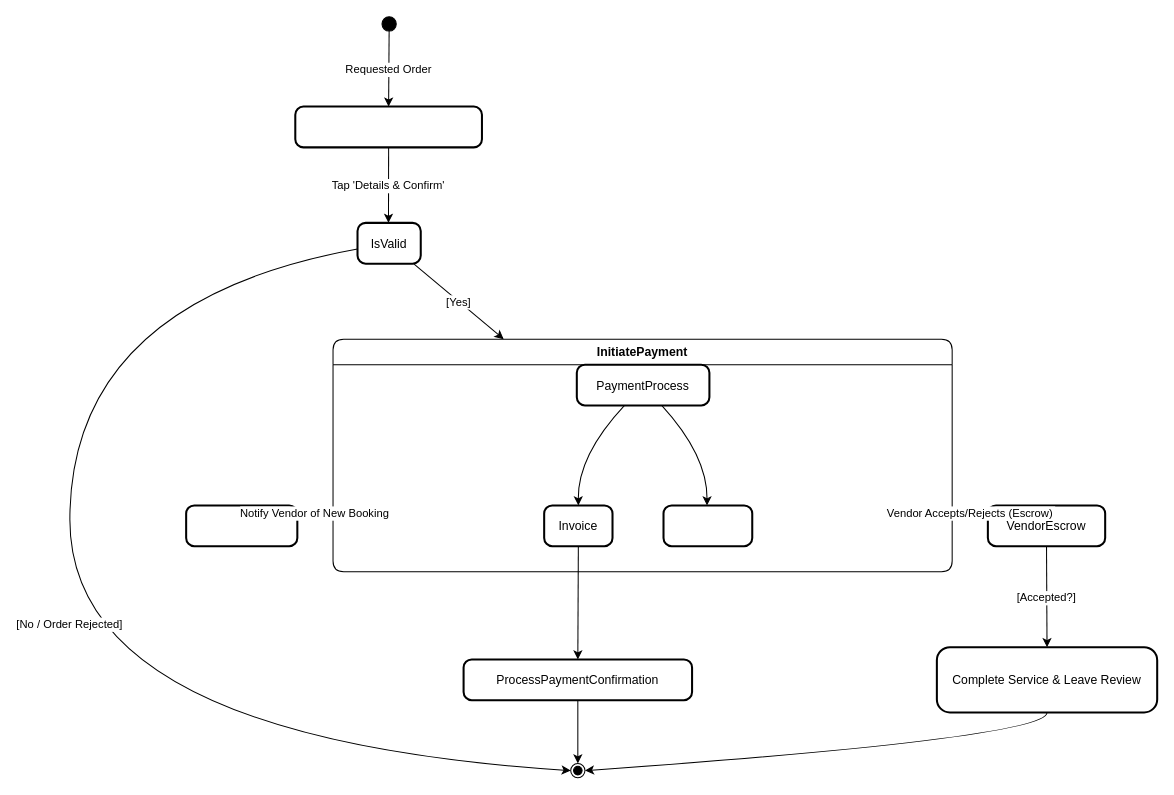
Some shapes in this 1174 by 795 pixel diagram are drawn without their labels. The shapes that lost their labels are listed below. From the top down, each one's centre as x and y in pixels, then its label:
At (x=388, y=126): "Search & Select Vendor".
At (x=241, y=525): "NotifyVendor".
At (x=707, y=525): "ShipOrder".
